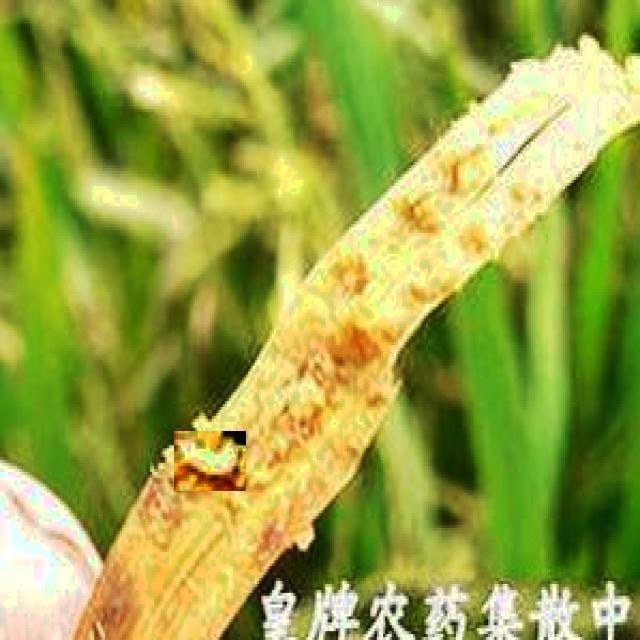whorl-maggot: (174, 431, 246, 491)
